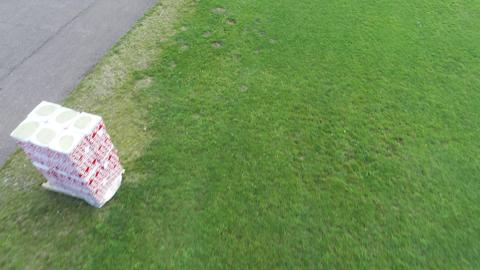RockwoolPallet: (9, 99, 125, 208)
